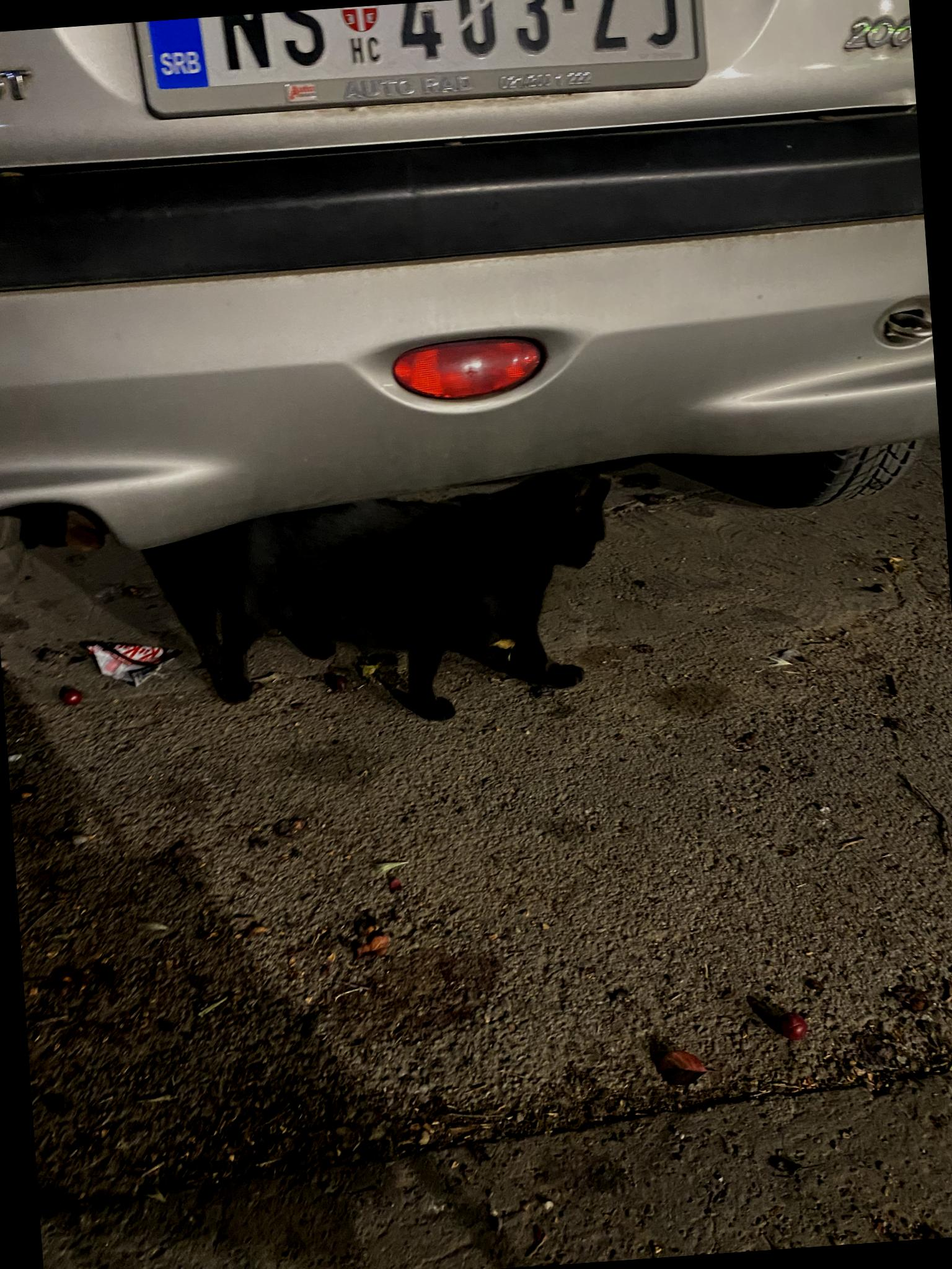macka: (201, 470, 629, 738)
